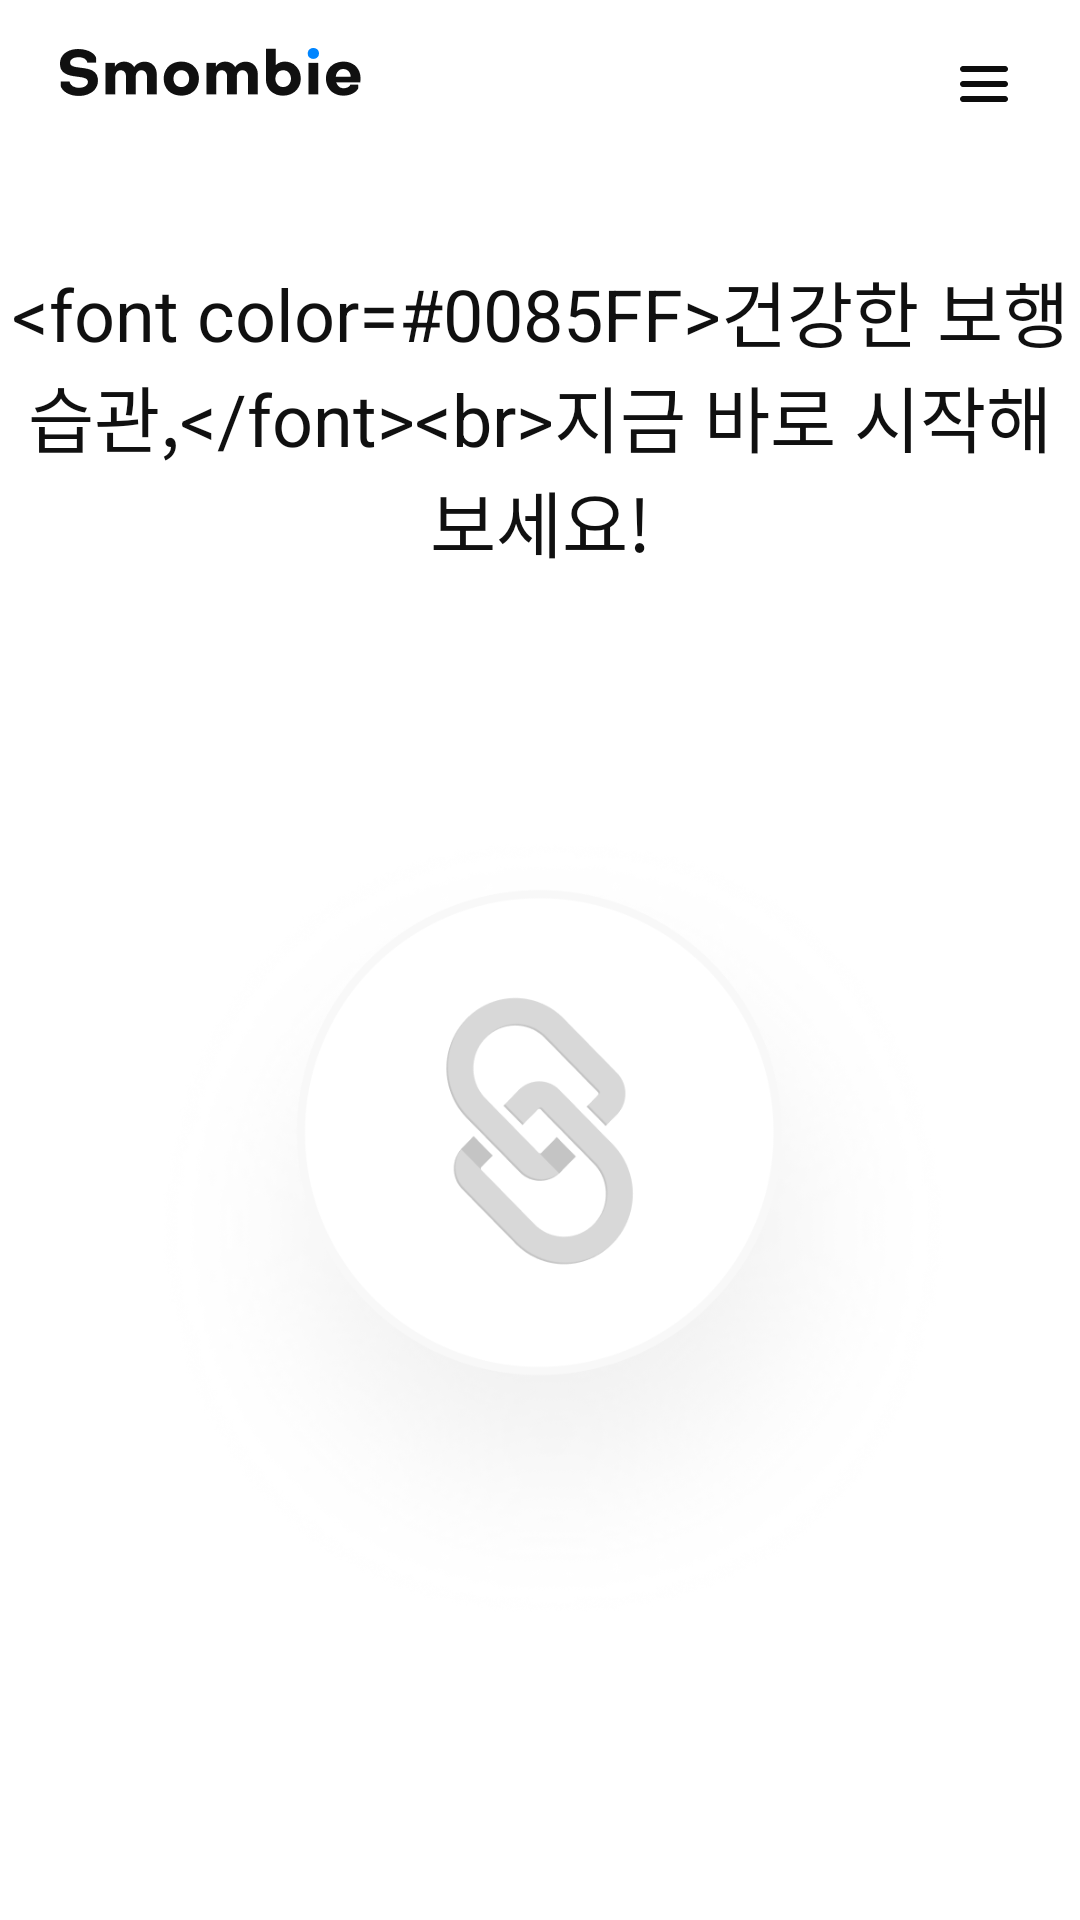

Icon bounding boxes for this 1080w x 1920h phone screenshot, format rect(x1, y1, x2, y2):
menu: rect(960, 66, 1008, 102)
